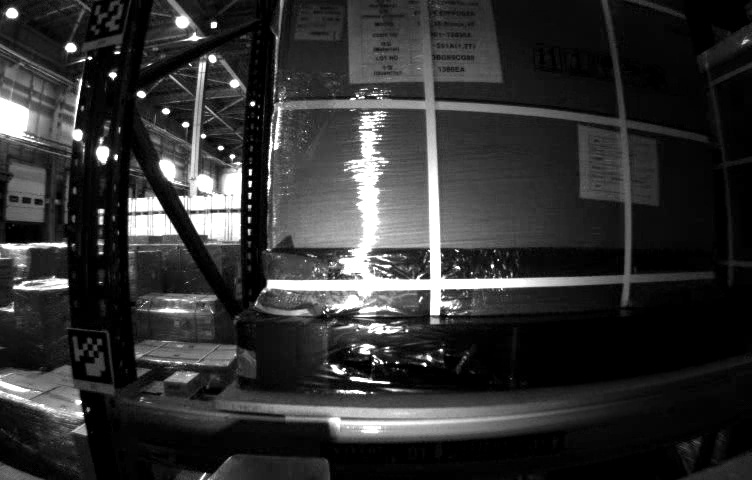True Barcode: (294, 1, 343, 40)
